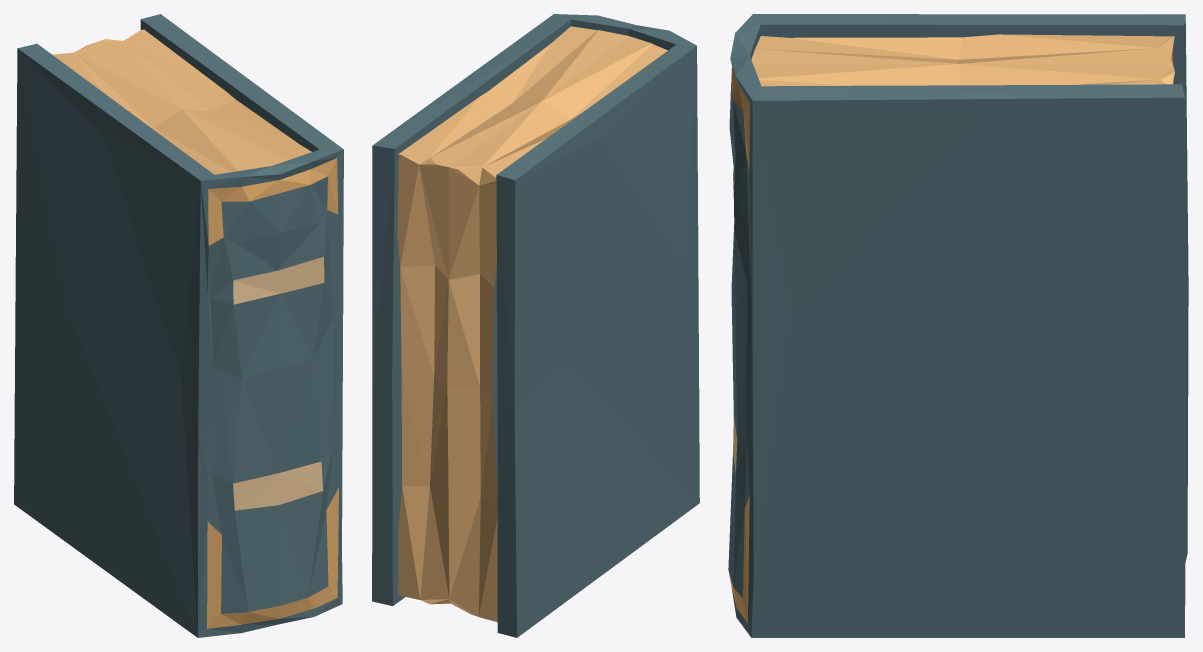
File: SFHW_Book_018.fbx
3 renders of one model, left to right at view 1: azimuth 30°, elevation 25°; view 2: azimuth 150°, elevation 25°; view 3: azimuth 270°, elevation 25°, orthographic. The views are drawn at different scales.
Parts seen in each view (by area): view 1: SFHW_Book_018; view 2: SFHW_Book_018; view 3: SFHW_Book_018.
Part boxes in pixels (x1,y1,x2,y2): SFHW_Book_018: (14, 14, 343, 637); SFHW_Book_018: (372, 14, 699, 637); SFHW_Book_018: (728, 14, 1188, 637).
Bounding box in the file's own units: 10.6 × 31.53 × 24.18.
